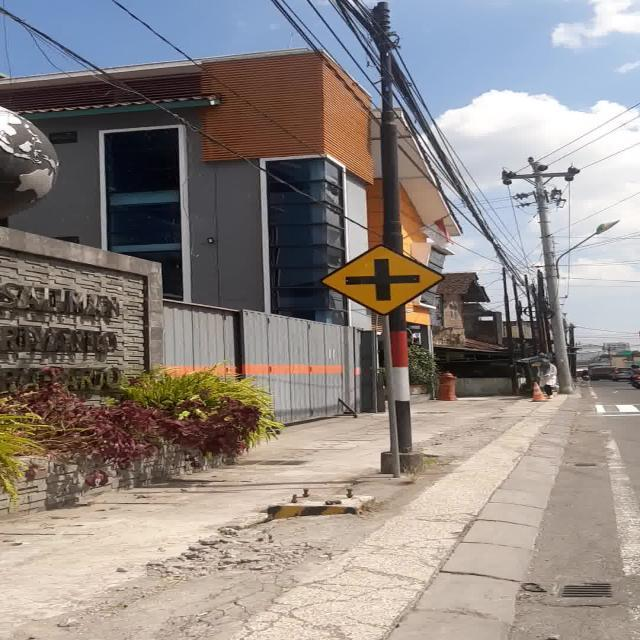Persimpangan 4: (321, 244, 446, 316)
